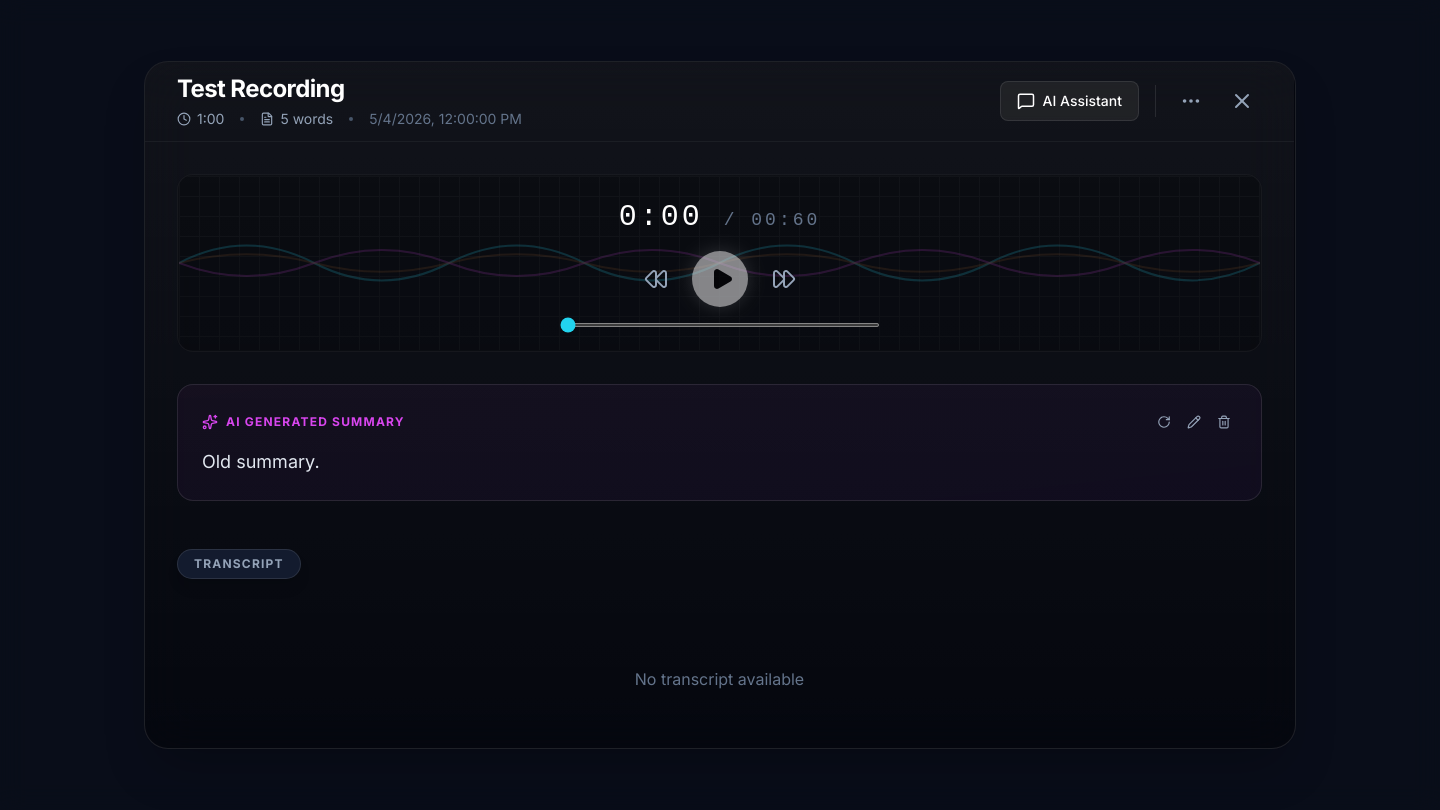
Test case: AudioNoteModal — stored summary (GH-254) › regenerate confirms and then streams a fresh summary
Click the button named "Regenerate summary": (1164, 422) [1151,409,1177,435]
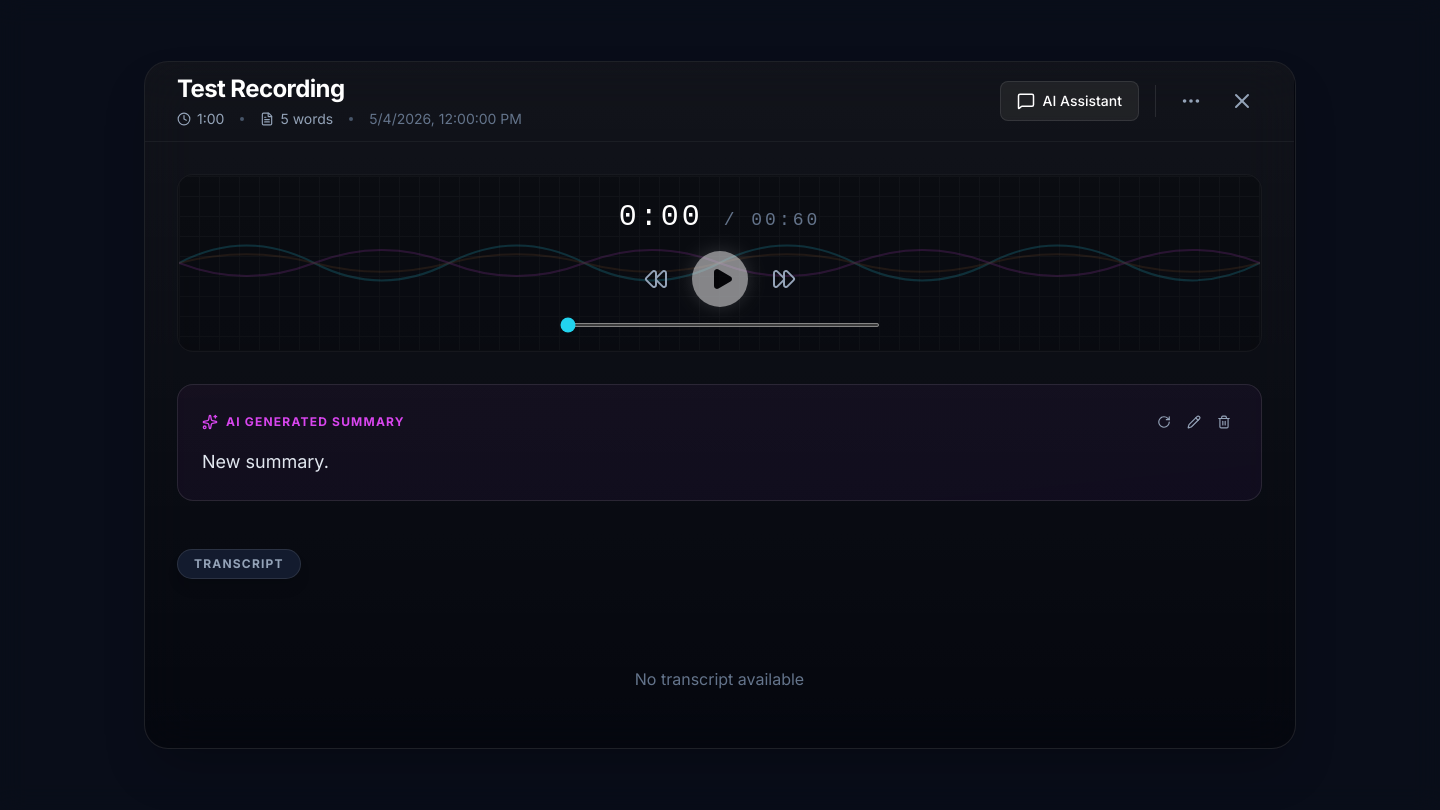
Check: the text "New summary." is shown, box [202,451,329,472]
